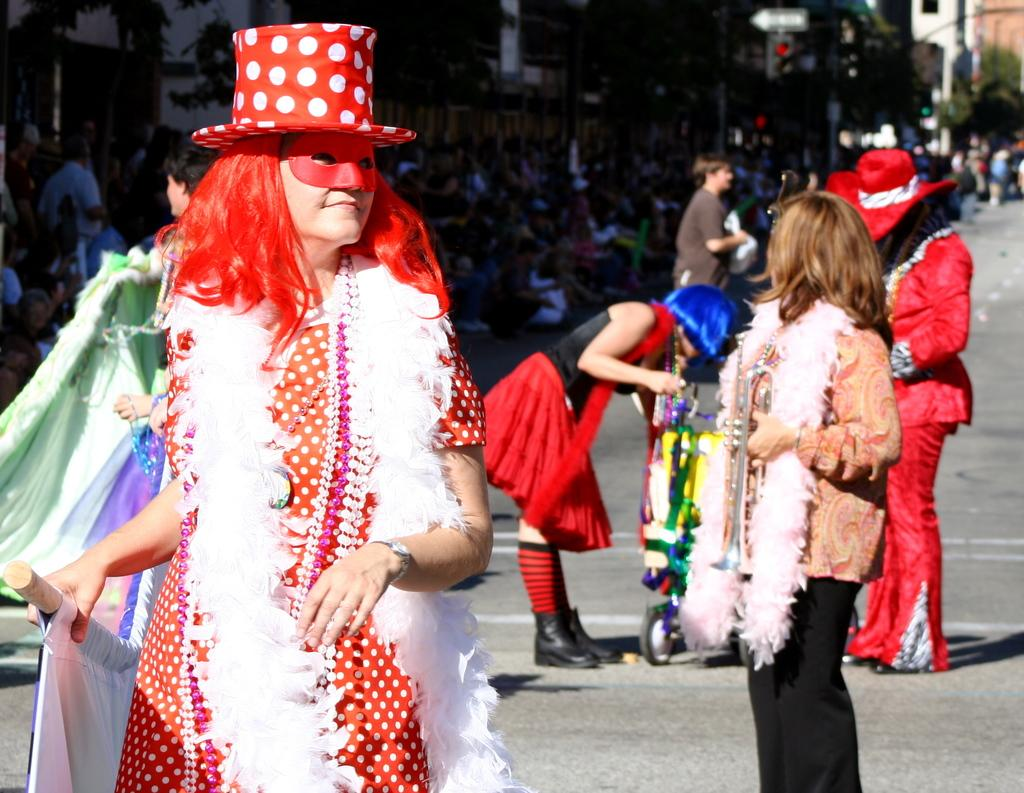Hat: (192, 20, 416, 154), (820, 144, 960, 239)
